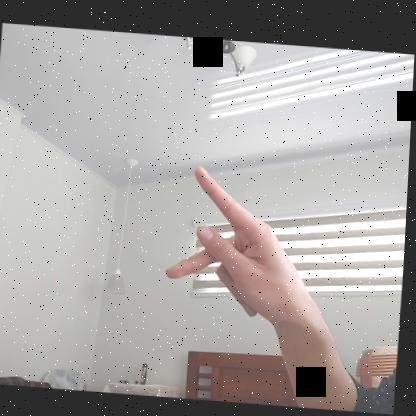K: (162, 160, 311, 324)
